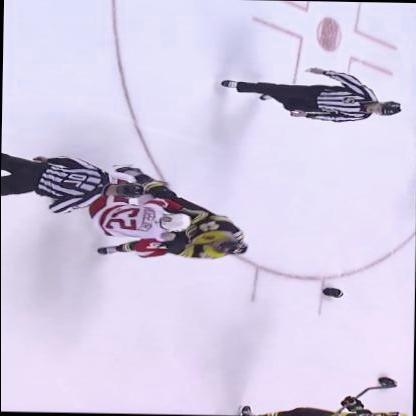non-Voilence: (222, 65, 402, 129)
voilence: (92, 167, 248, 264)
